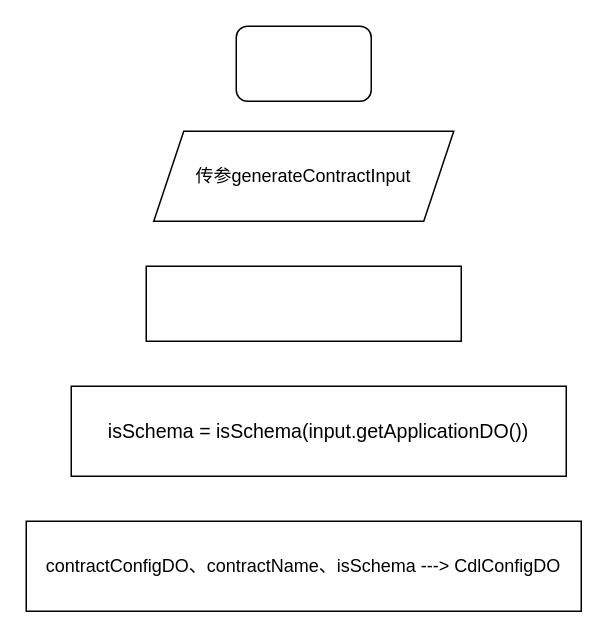
This 608x638 diagram has some shape labels left out. The centre of each missing label's shape, as x and y in pixels:
new generateContractResult: the point at 303,303
开始: the point at 303,63
